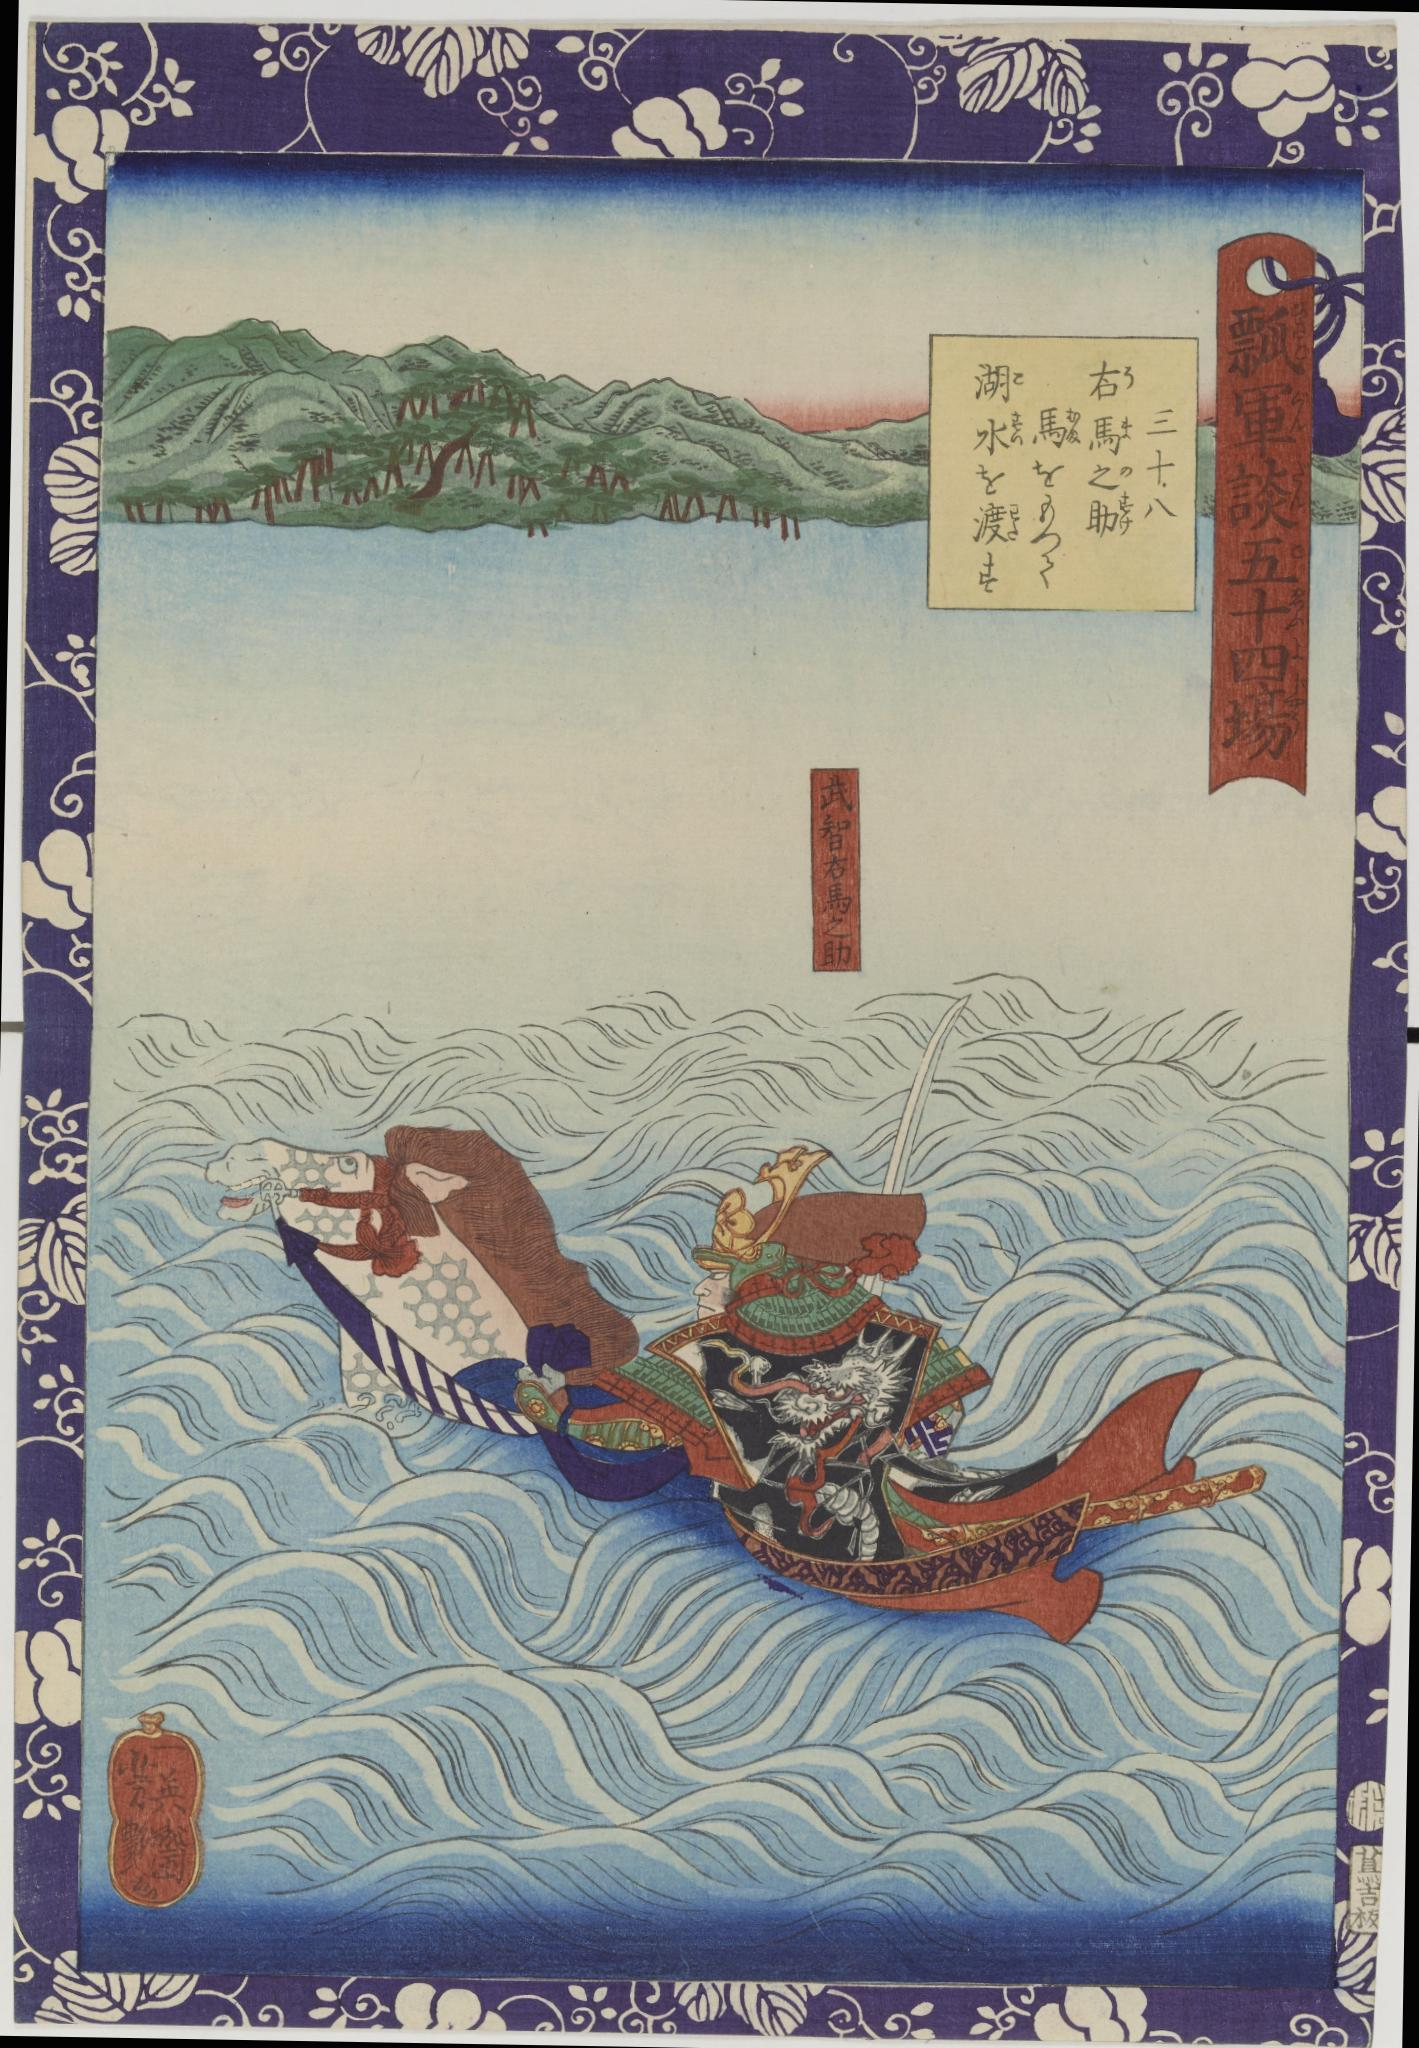MainZone-Character: (1217, 675, 1310, 769), (1221, 297, 1313, 380), (1223, 454, 1310, 532), (1223, 381, 1310, 456), (1223, 585, 1310, 644), (1220, 532, 1312, 585), (1223, 643, 1307, 683), (969, 500, 1028, 548), (1033, 402, 1084, 454), (1089, 492, 1137, 543), (971, 359, 1027, 403), (971, 412, 1024, 458), (1086, 412, 1136, 459), (1088, 462, 1137, 495)
MainZone-Ruby: (1287, 299, 1313, 363), (1282, 675, 1307, 736), (1290, 458, 1312, 515), (1287, 391, 1310, 437), (1114, 490, 1134, 542), (1063, 403, 1083, 447), (1287, 587, 1307, 629), (1007, 409, 1025, 450), (1005, 504, 1022, 543), (1290, 538, 1312, 562), (1119, 411, 1134, 442), (1010, 367, 1025, 389), (1119, 462, 1134, 482), (1291, 641, 1307, 661)
